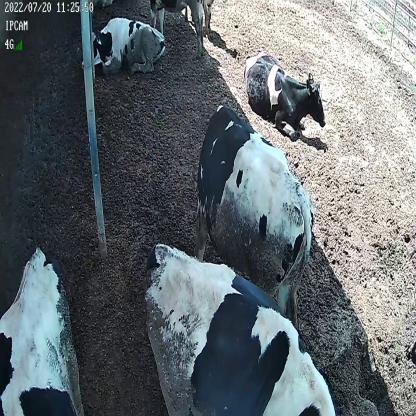cow: (144, 236, 337, 416), (194, 101, 317, 318), (242, 48, 327, 138), (79, 16, 167, 78)
